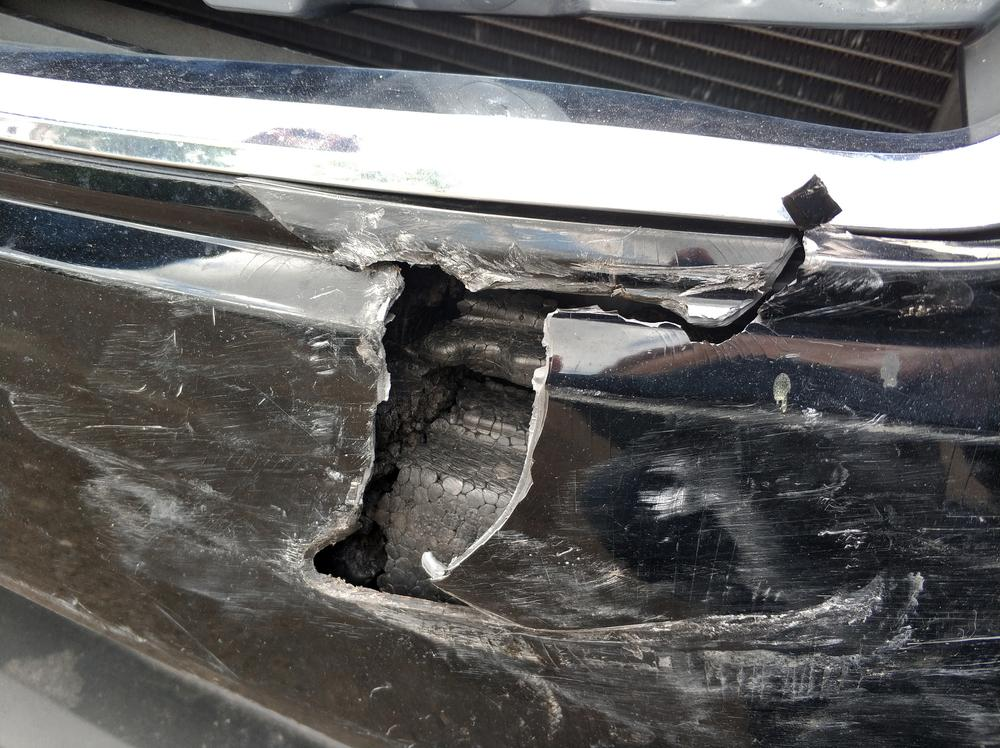crack: (233, 183, 809, 610)
scratch: (475, 403, 1000, 748), (0, 253, 384, 603)
